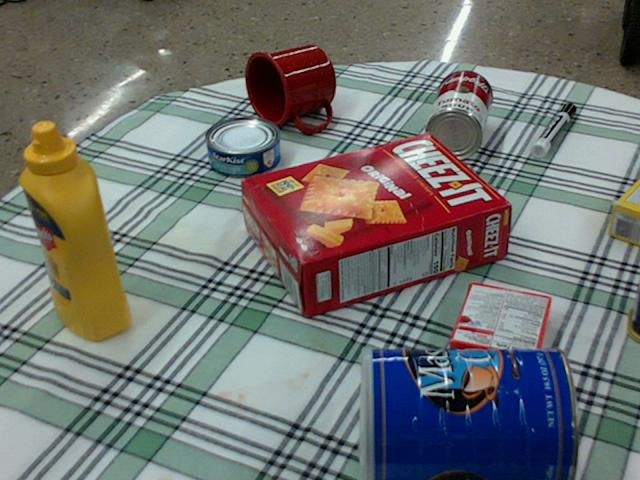cracker_box: (241, 134, 509, 317)
gelatin_box: (449, 282, 550, 376)
large_marker: (529, 103, 575, 155)
master_chef_can: (359, 344, 581, 479)
mug: (243, 45, 335, 130)
mustard_bottle: (19, 121, 129, 340)
potted_meat_can: (626, 266, 639, 341)
sugar_box: (610, 180, 639, 246)
tomato_soup_can: (423, 69, 492, 158)
tuna_fish_can: (203, 117, 279, 176)
